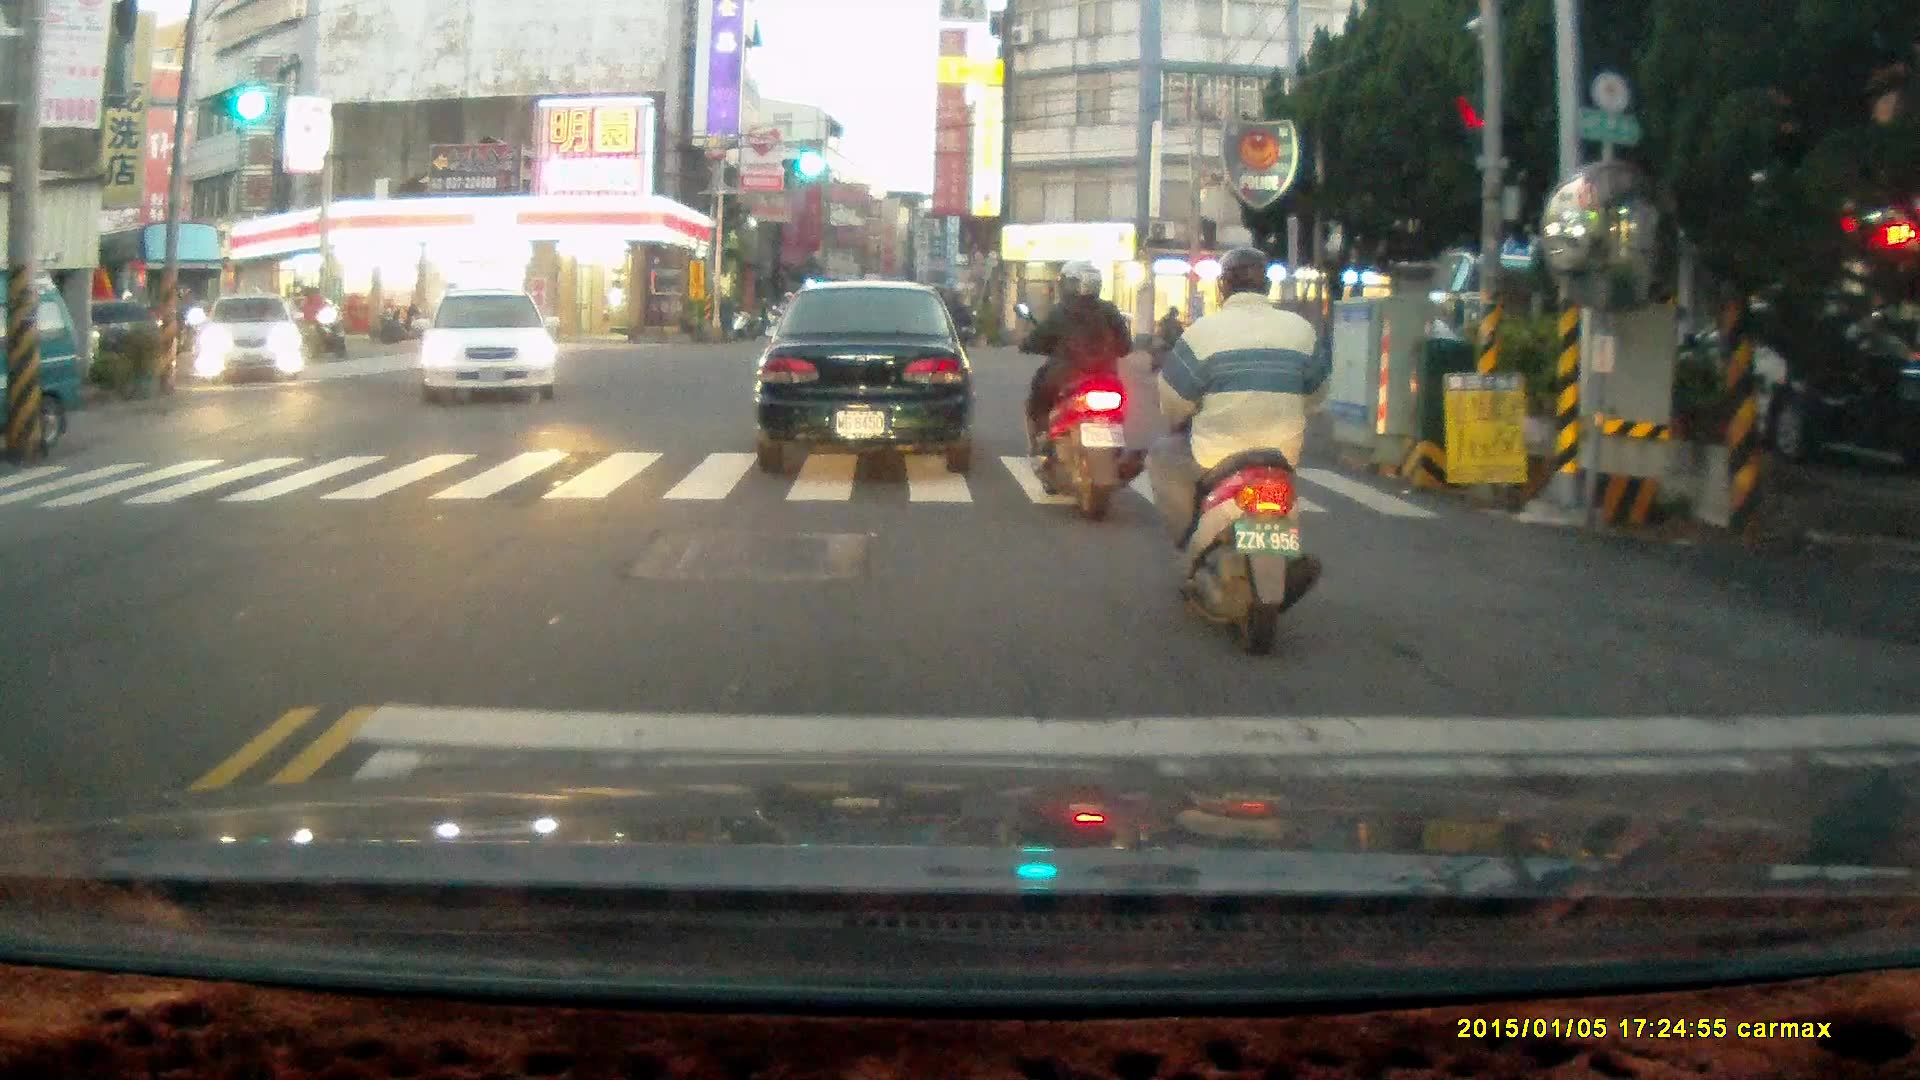rider: (1142, 240, 1326, 641), (1007, 259, 1143, 523), (296, 280, 347, 365), (1148, 302, 1185, 373)
vehicle: (1613, 291, 1919, 463), (755, 279, 975, 477), (416, 288, 561, 404), (1, 282, 91, 460), (195, 291, 306, 384)
